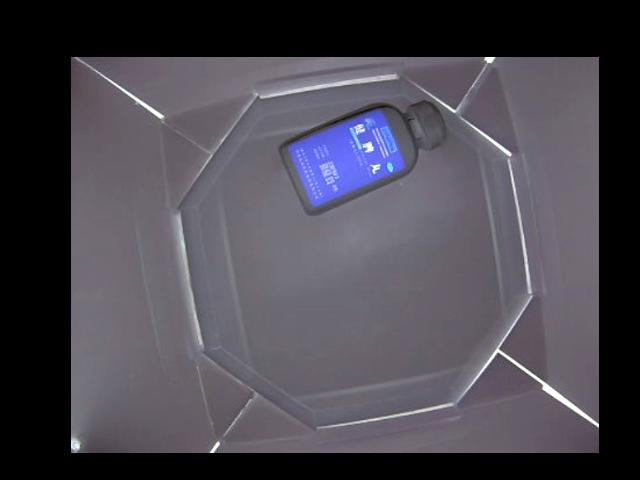Bottle: (278, 96, 446, 213)
